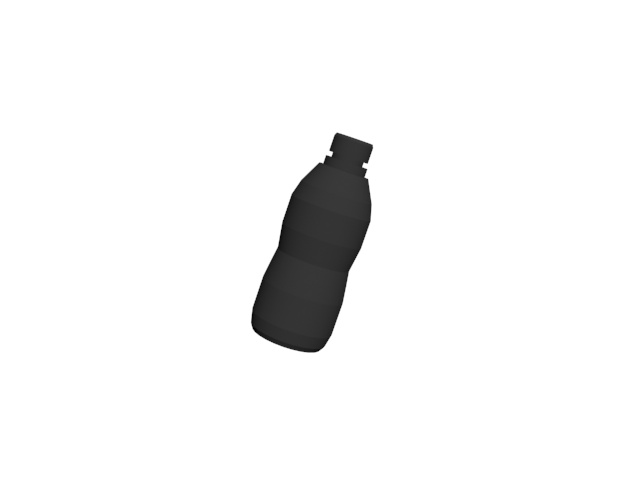bottle: (249, 129, 376, 360)
